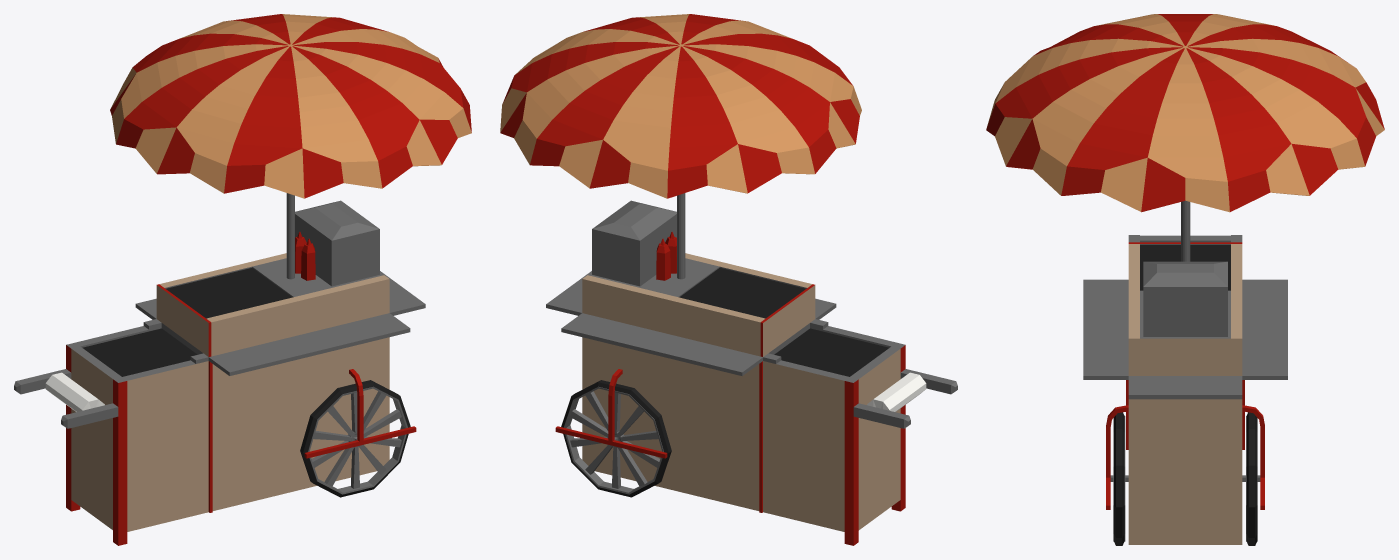
The model's file is Tori_Koju_HotDog.fbx.
3 views of the same model, side by side, from view 1: azimuth 30°, elevation 25°; view 2: azimuth 150°, elevation 25°; view 3: azimuth 270°, elevation 25° (orthographic). The views are drawn at different scales.
Parts seen in each view (by area): view 1: Kärry, Varjo; view 2: Kärry, Varjo; view 3: Varjo, Kärry.
Part boxes in pixels (box(x1,y1,x2,y2)): Kärry: box(14, 200, 425, 545); Varjo: box(110, 14, 471, 279); Kärry: box(546, 200, 957, 545); Varjo: box(500, 14, 861, 279); Varjo: box(986, 14, 1384, 261); Kärry: box(1083, 235, 1287, 545).
Bounding box in the file's own units: 225 × 229 × 175.
